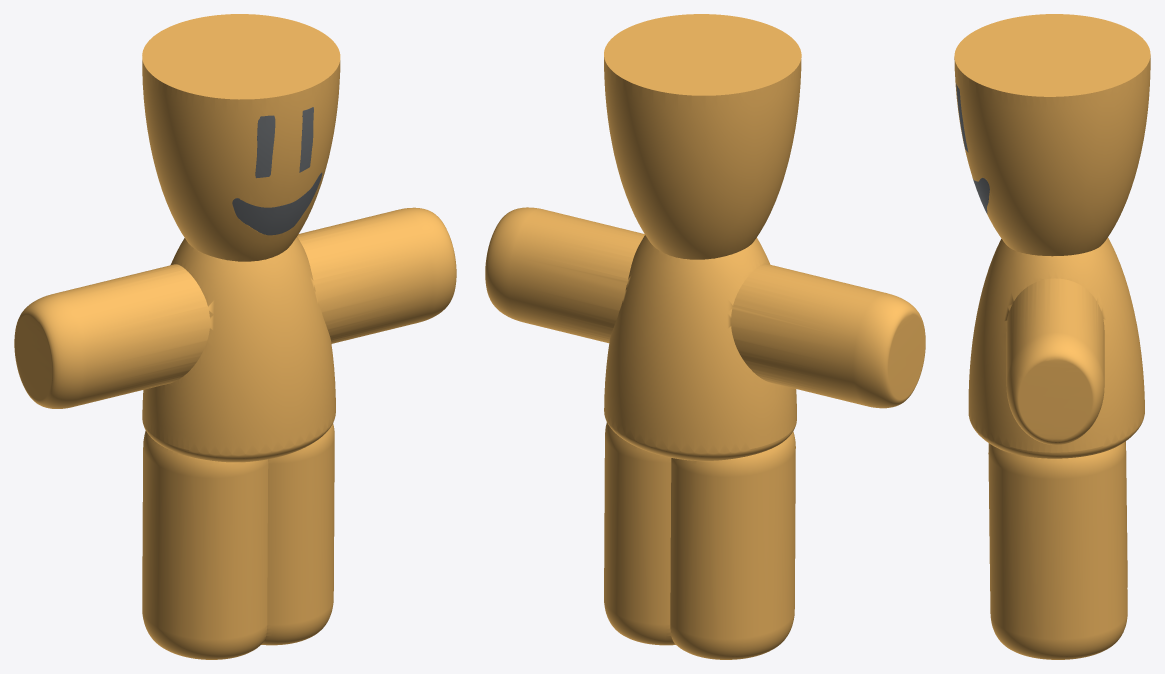
3 views of the same model, side by side, from view 1: azimuth 30°, elevation 25°; view 2: azimuth 150°, elevation 25°; view 3: azimuth 270°, elevation 25° (orthographic).
Visible parts, largest first — view 1: Object_2, Object_3; view 2: Object_2; view 3: Object_2, Object_3.
Boxes of the visible parts, x1,y1,x2,y2 form: Object_2: [14, 14, 456, 659]; Object_3: [232, 107, 322, 235]; Object_2: [485, 14, 925, 659]; Object_2: [954, 14, 1150, 659]; Object_3: [956, 84, 989, 213].
Size of the model in its own units: 47 by 64.17 by 20.
